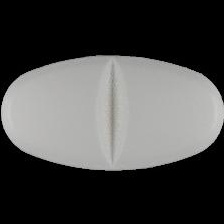68788-9757: (0, 0, 224, 224)
